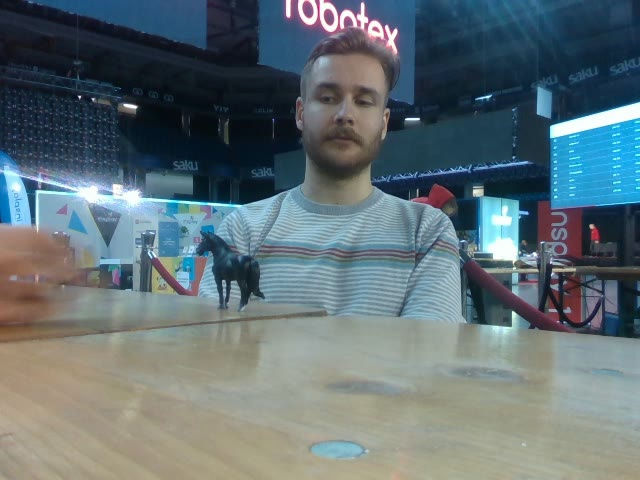toy: (194, 229, 266, 311)
